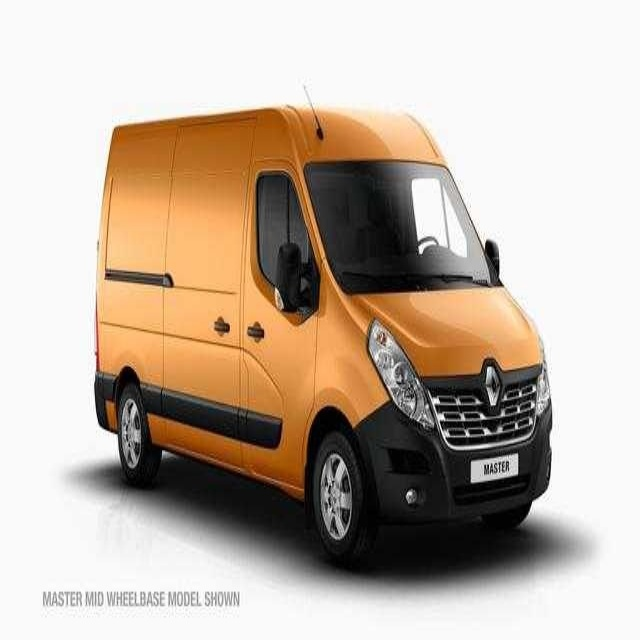Van: (95, 106, 555, 571)
